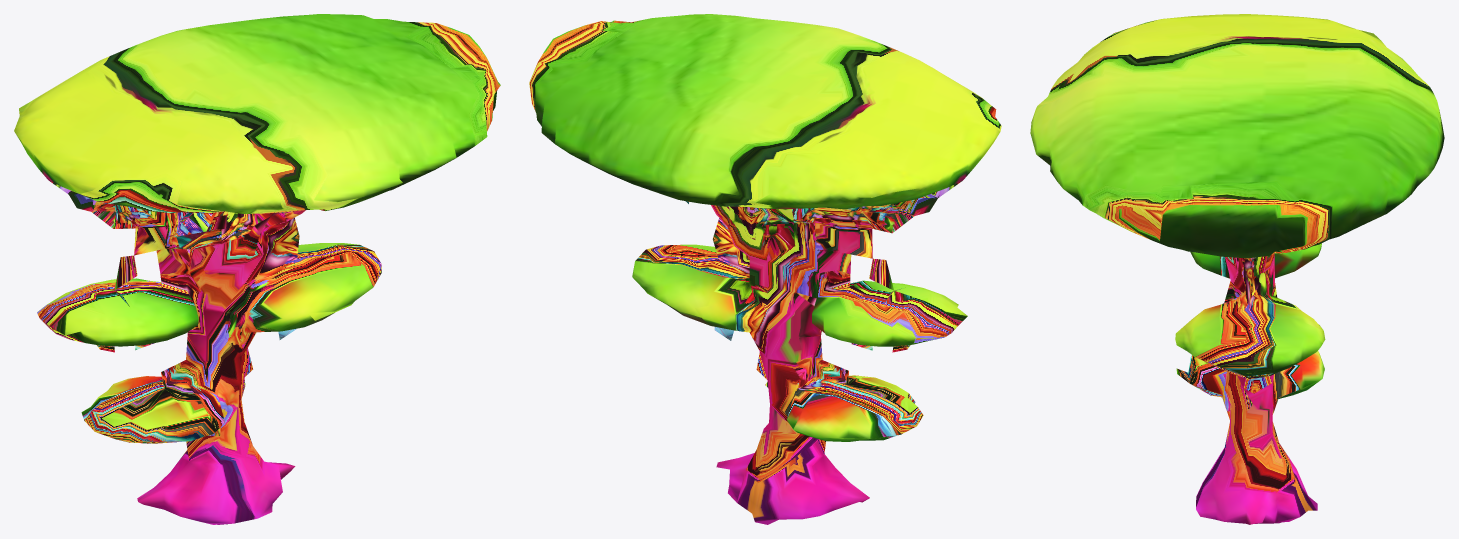
The picture shows the model from 3 angles, left to right: view 1: azimuth 30°, elevation 25°; view 2: azimuth 150°, elevation 25°; view 3: azimuth 270°, elevation 25°; orthographic projection. The views are drawn at different scales.
Parts seen in each view (by area): view 1: model.004; view 2: model.004; view 3: model.004.
Part boxes in pixels (x1,y1,x2,y2): model.004: (14,14,500,524); model.004: (529,14,1001,524); model.004: (1030,14,1444,524).
Size of the model in its own units: 1.05 by 1 by 0.8417.
Materials: 1 (1 with a texture image).
